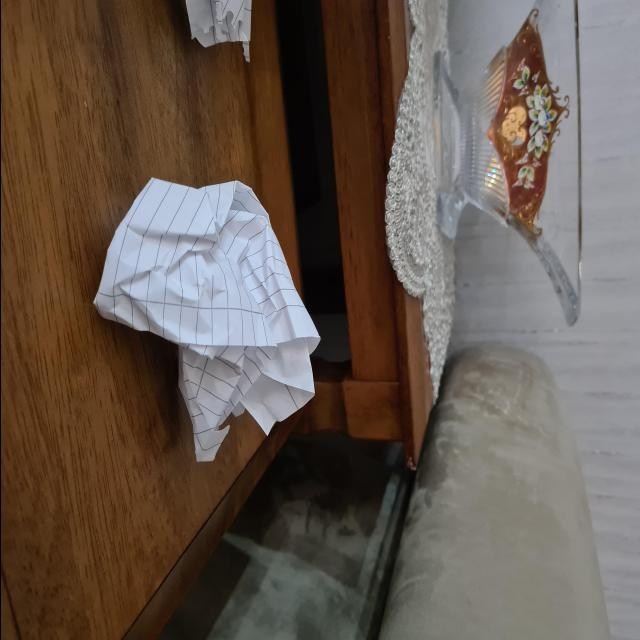kertas: (95, 176, 322, 458)
